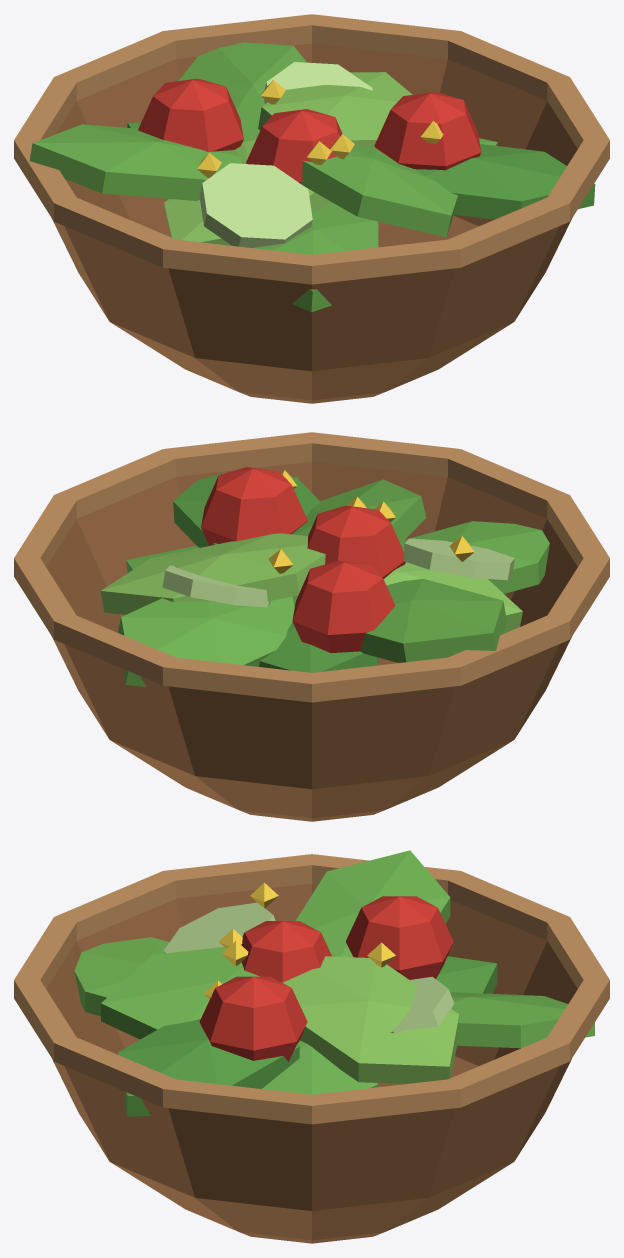
Rendered from Food_Salad.obj.
The picture shows the model from 3 angles, top to bottom: view 1: azimuth 30°, elevation 25°; view 2: azimuth 150°, elevation 25°; view 3: azimuth 270°, elevation 25°; orthographic projection.
Size of the model in its own units: 2.04 by 0.975 by 2.04.
